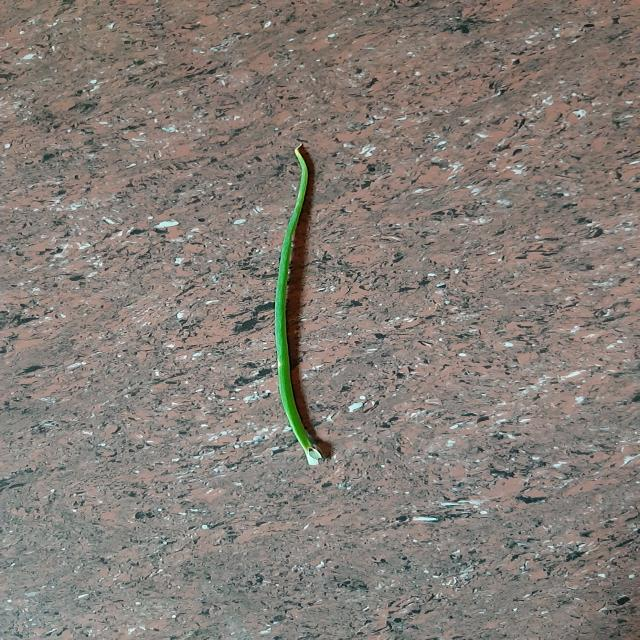onion: (274, 146, 325, 466)
